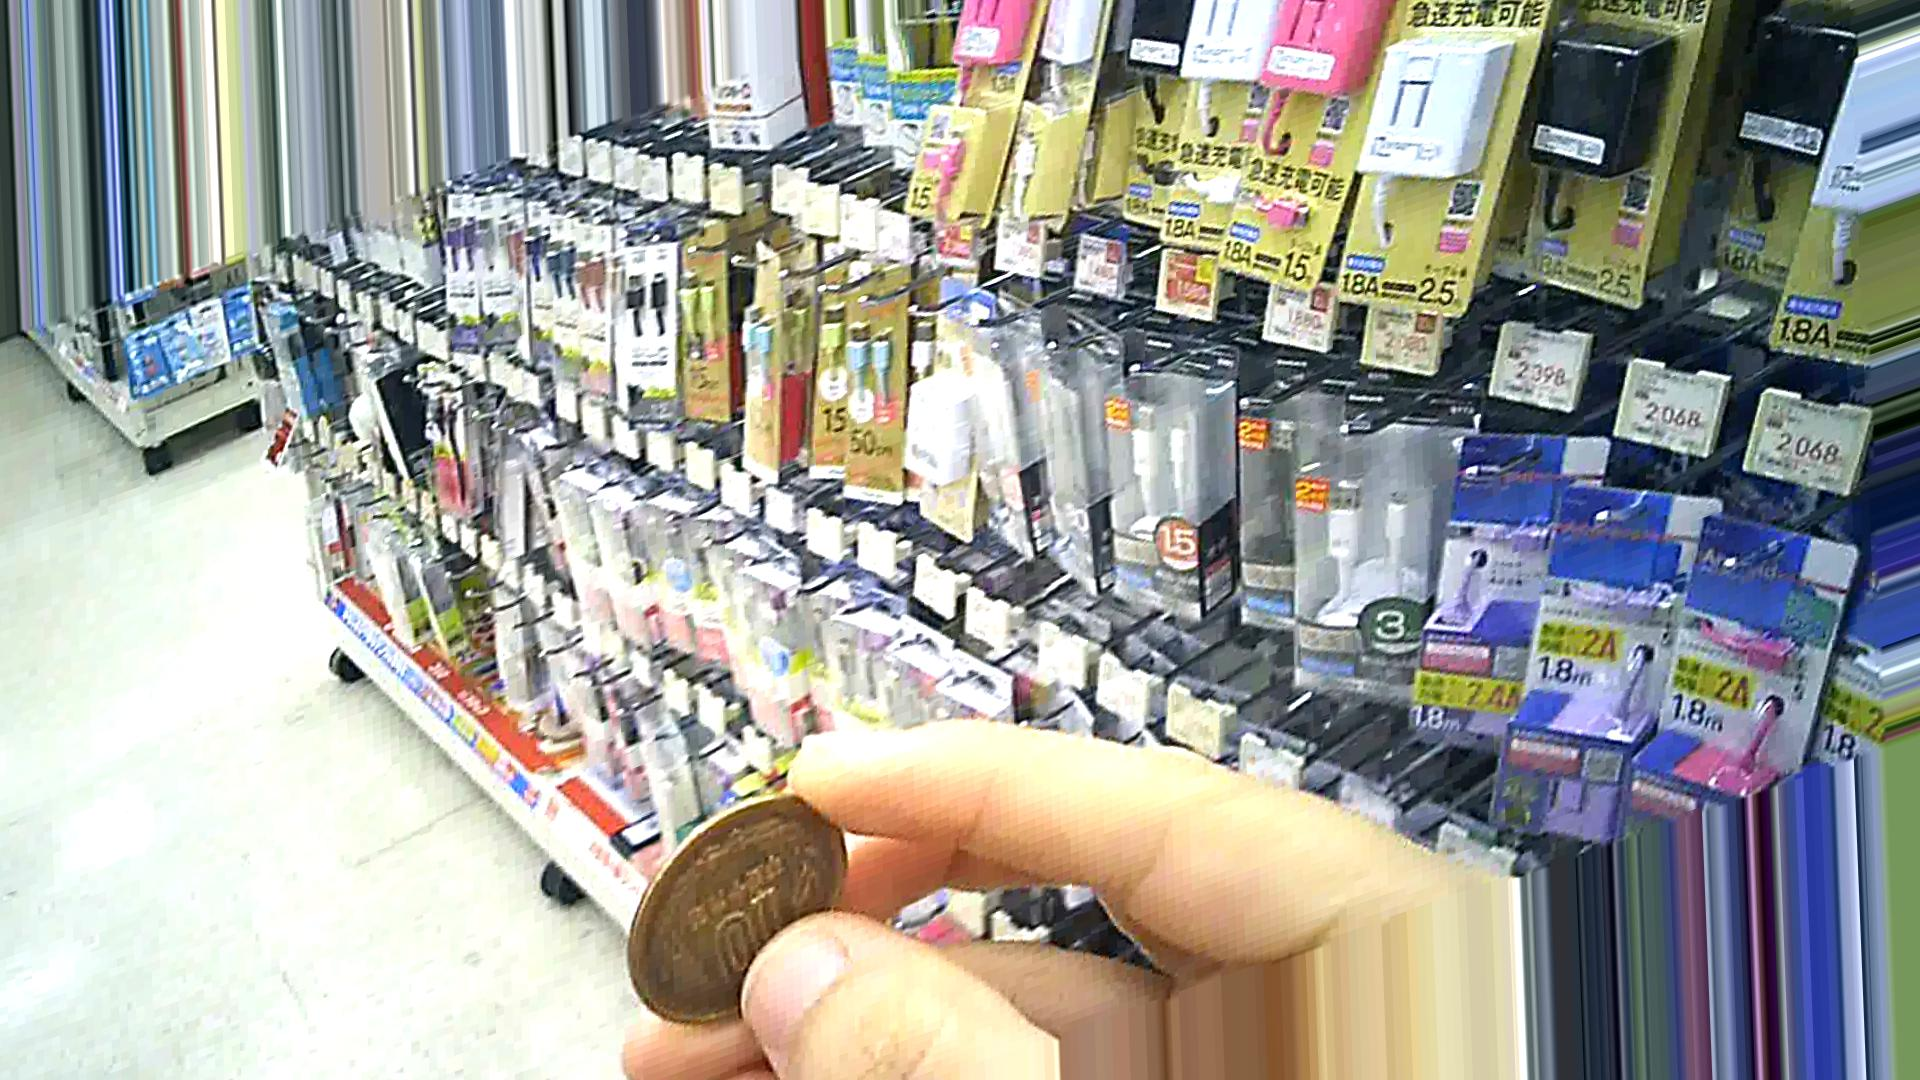10 Yen: (607, 785, 866, 1029)
